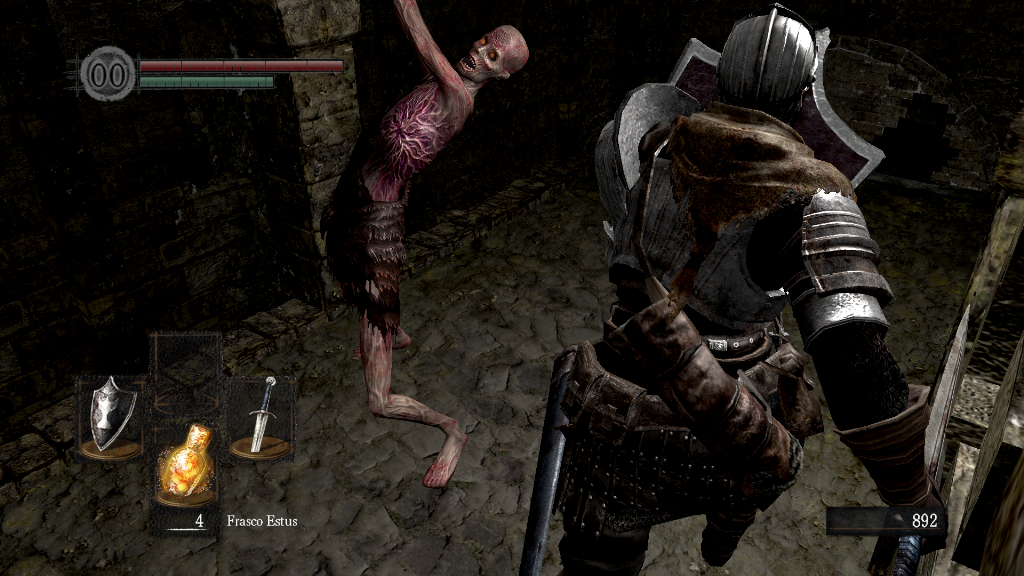health: (138, 58, 343, 71)
hollow: (318, 1, 535, 489)
humanity: (80, 45, 136, 102)
player: (520, 3, 971, 576)
souls: (825, 506, 945, 536)
stamina: (138, 74, 274, 88)
